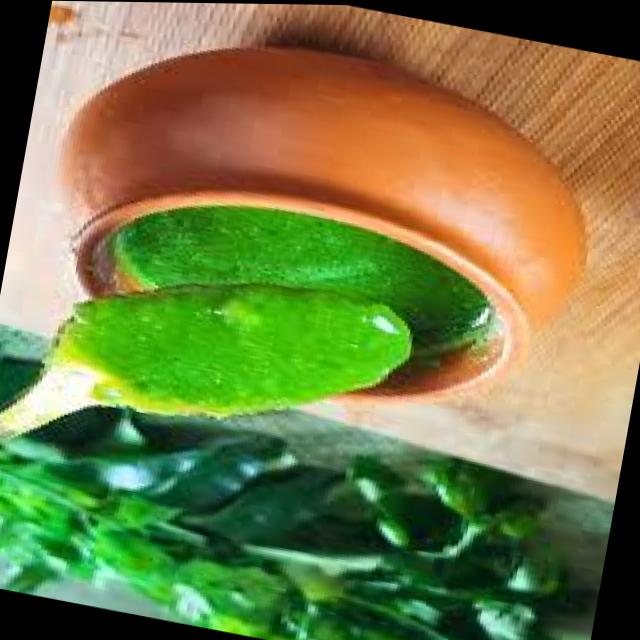GREEN CHUTNEY: (20, 69, 583, 485)
